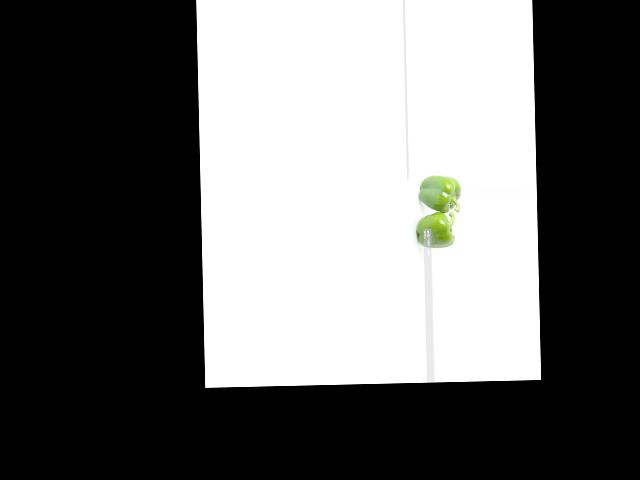bell_pepper: (412, 175, 464, 212)
